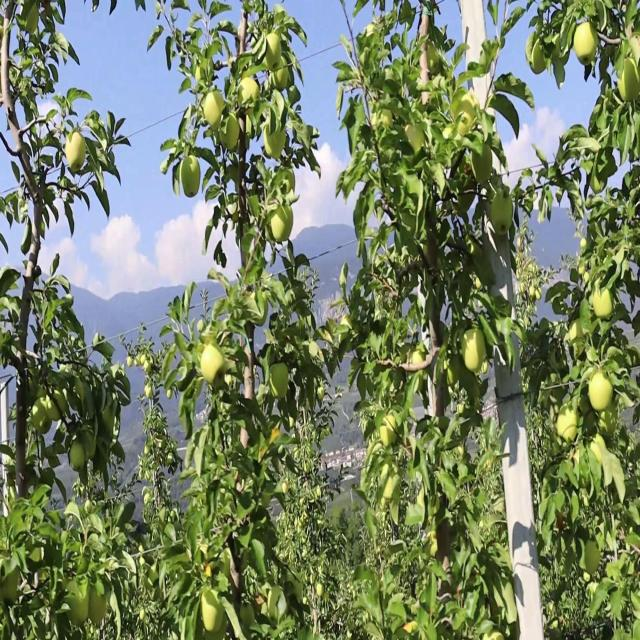apple: (200, 342, 225, 387), (461, 327, 486, 371), (490, 189, 512, 236), (574, 22, 598, 64), (68, 580, 89, 627), (618, 58, 640, 102), (201, 589, 224, 631), (589, 371, 612, 411), (270, 204, 294, 242), (65, 131, 86, 173), (180, 156, 200, 198), (204, 89, 225, 129), (471, 144, 492, 184), (219, 113, 240, 150), (556, 407, 578, 442), (204, 93, 224, 129), (31, 398, 51, 433), (270, 362, 289, 398), (264, 127, 286, 158), (265, 31, 281, 71), (528, 38, 546, 73), (270, 58, 289, 91), (405, 122, 425, 153), (380, 413, 398, 447), (599, 404, 618, 436), (89, 589, 106, 624), (590, 160, 608, 193), (382, 471, 401, 502), (239, 76, 260, 104), (592, 289, 612, 318), (196, 542, 211, 580), (69, 438, 85, 471), (80, 429, 96, 459), (590, 433, 605, 464), (446, 356, 460, 386), (569, 318, 584, 342), (631, 309, 640, 336), (556, 511, 564, 531), (201, 562, 211, 578), (315, 582, 324, 598), (529, 284, 538, 300), (142, 360, 152, 373), (480, 360, 489, 373), (578, 262, 586, 276), (304, 460, 311, 473), (535, 287, 541, 299)
